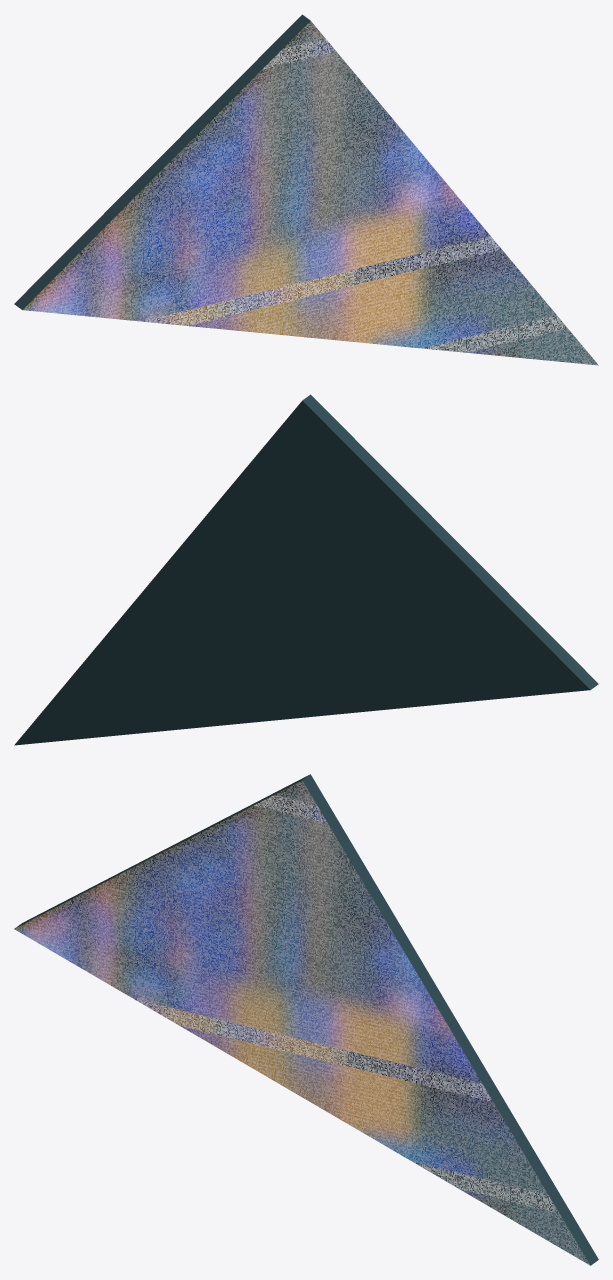
3 renders of one model, top to bottom at view 1: azimuth 30°, elevation 25°; view 2: azimuth 150°, elevation 25°; view 3: azimuth 330°, elevation 25°, orthographic.
Parts seen in each view (by area): view 1: Piece_09; view 2: Piece_09; view 3: Piece_09.
Part boxes in pixels (x1=…): Piece_09: x1=14, y1=14, x2=598, y2=365; Piece_09: x1=14, y1=394, x2=598, y2=745; Piece_09: x1=14, y1=774, x2=598, y2=1265.
Bounding box in the file's own units: 1 × 0.6882 × 0.025.
Materials: 2 (1 with a texture image).
